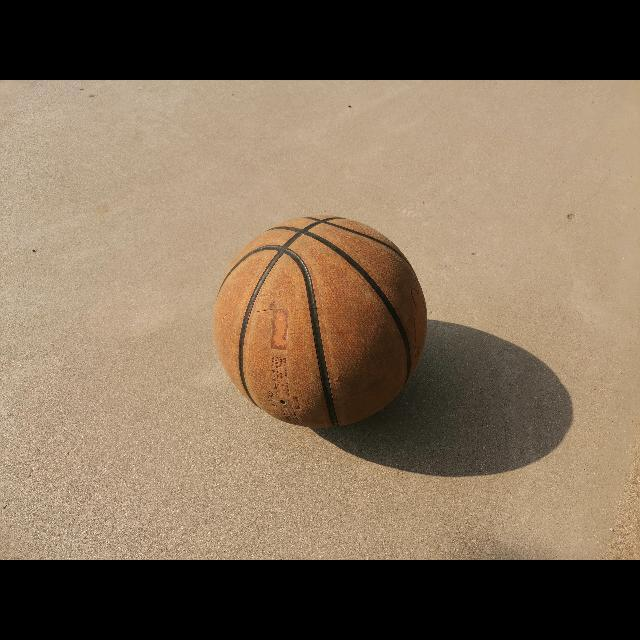basketball: (214, 217, 426, 428)
